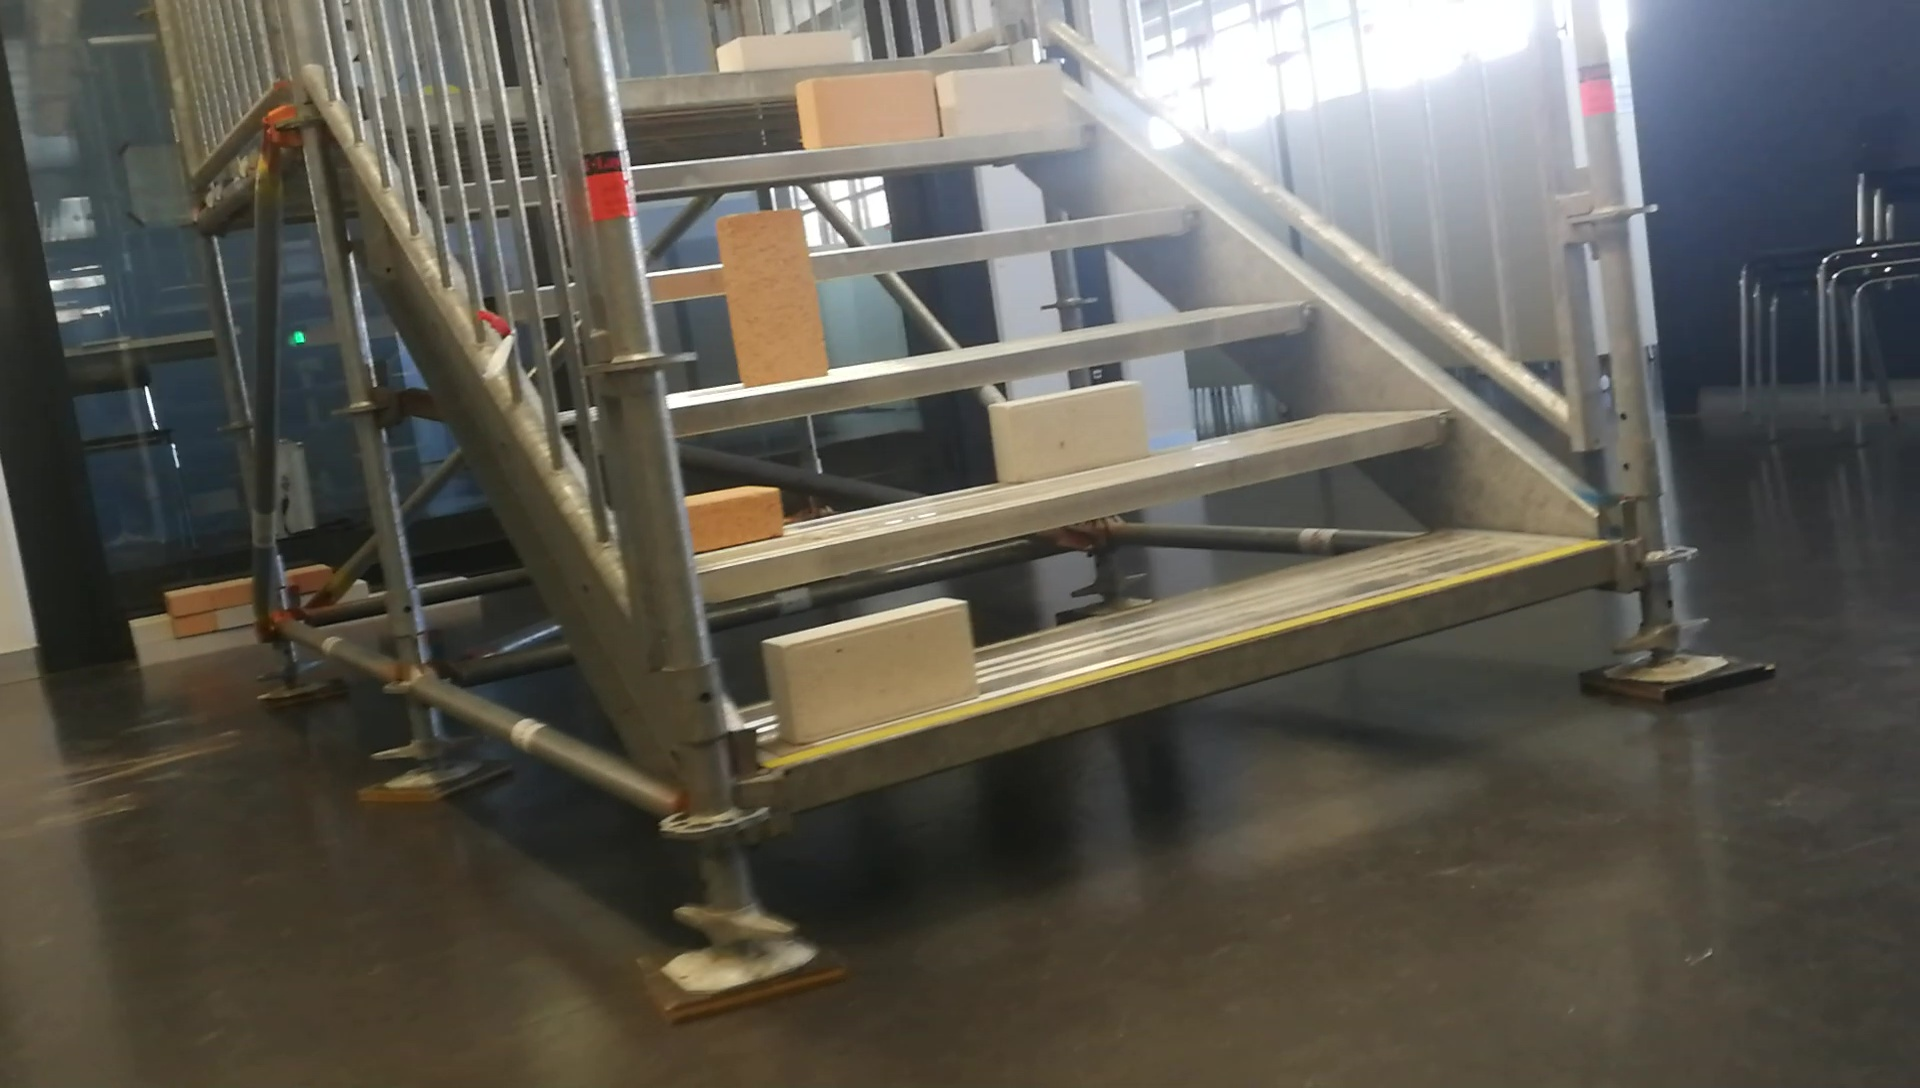brick: (762, 597, 969, 742), (717, 208, 825, 388), (990, 380, 1145, 480), (796, 69, 932, 148), (942, 67, 1063, 135), (684, 485, 782, 553), (715, 33, 851, 69)
edge: (785, 542, 1619, 814), (698, 415, 1448, 603), (673, 295, 1312, 438), (647, 204, 1197, 305), (634, 117, 1102, 198), (620, 53, 1025, 106)
stairs: (547, 5, 1772, 1018)
steps: (600, 22, 1635, 830)
